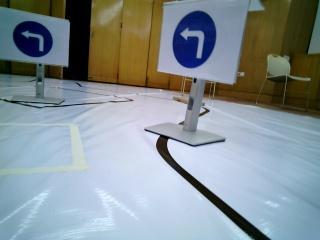left: (165, 11, 225, 75), (12, 17, 66, 59)
